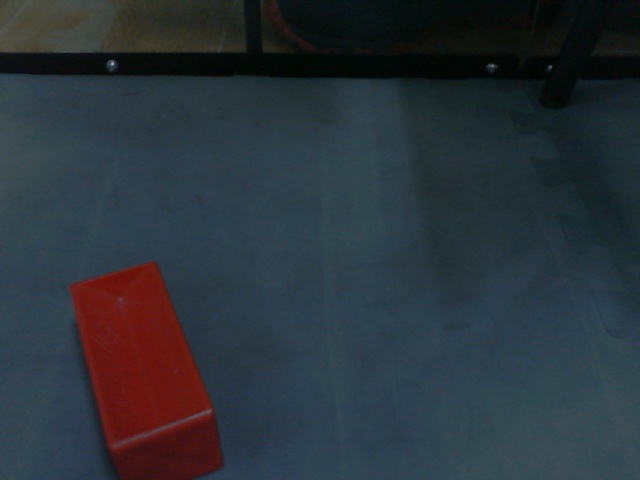RedSample: (66, 258, 227, 480)
